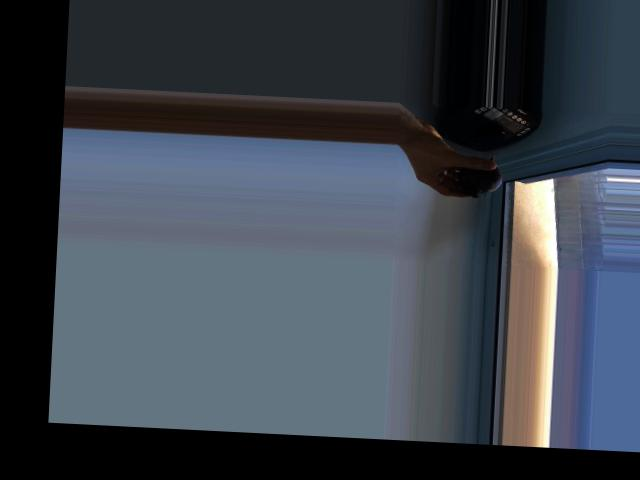beet: (452, 153, 503, 198)
